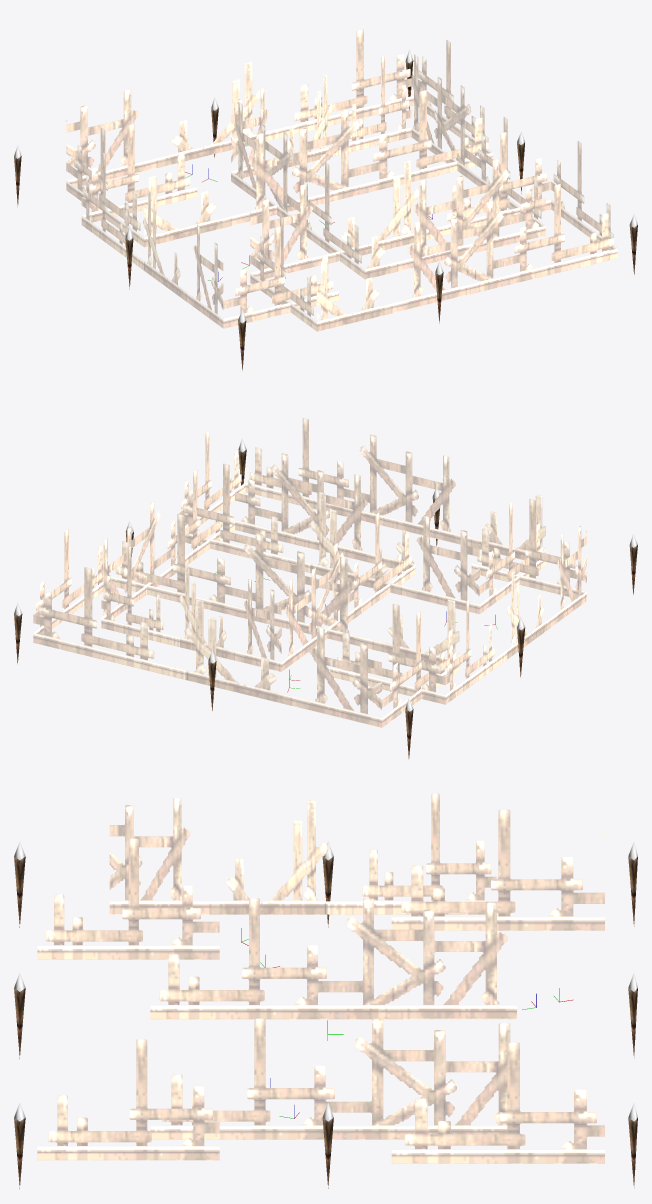
File: construction-b.glb
The picture shows the model from 3 angles, top to bottom: view 1: azimuth 30°, elevation 25°; view 2: azimuth 150°, elevation 25°; view 3: azimuth 270°, elevation 25°; orthographic projection. The views are drawn at different scales.
Parts seen in each view (by area): view 1: building construction large bModel; view 2: building construction large bModel; view 3: building construction large bModel.
Part boxes in pixels (<box>): building construction large bModel: <box>14,29,637,371</box>; building construction large bModel: <box>14,418,637,759</box>; building construction large bModel: <box>14,793,637,1188</box>.
Size of the model in its own units: 10.06 by 2.6 by 10.
Materials: 4 (2 with a texture image).
